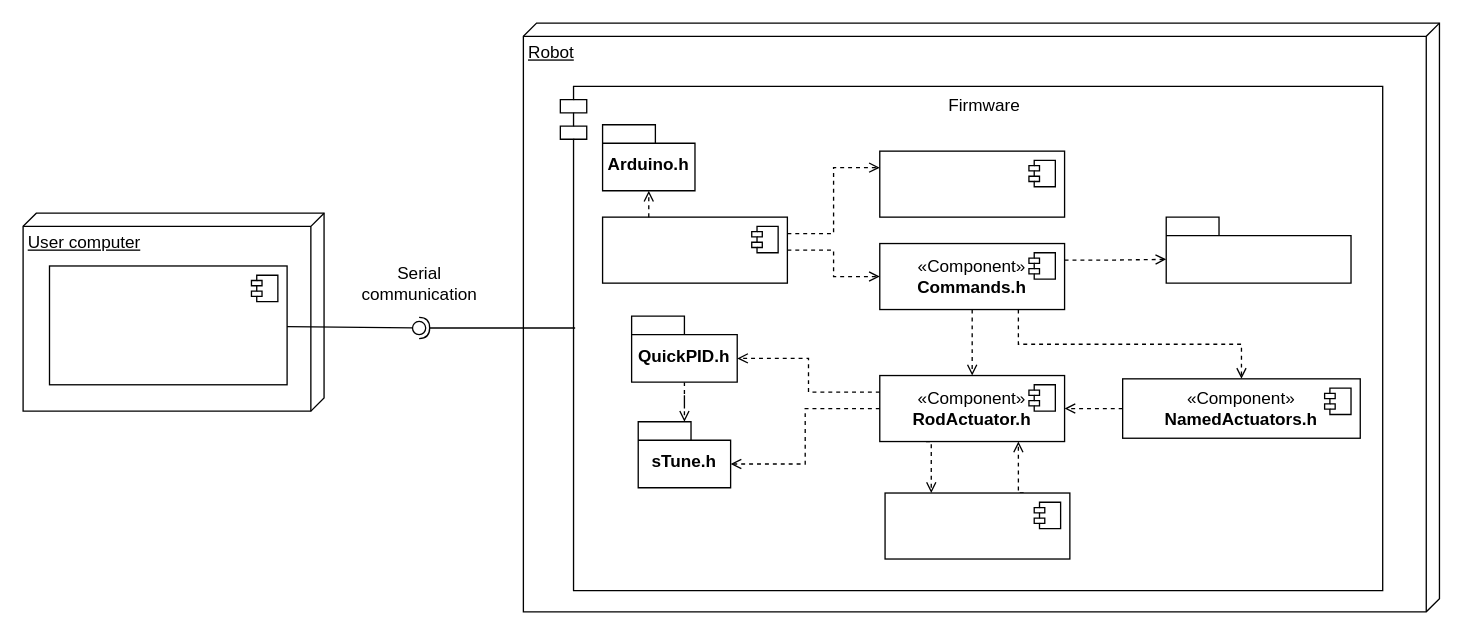
This 1463x635 diagram has some shape labels left out. The box of each missing label's shape, as (x1, y1, x2, y2) in pixels:
SerialCommands.h: (1165, 216, 1351, 283)
«Component» alamctl.py: (48, 265, 287, 385)
«Component» AlamWare.ino: (601, 216, 787, 283)
«Component» Memory.h: (878, 150, 1065, 217)
«Component» RodActuator.cpp: (884, 492, 1070, 559)
